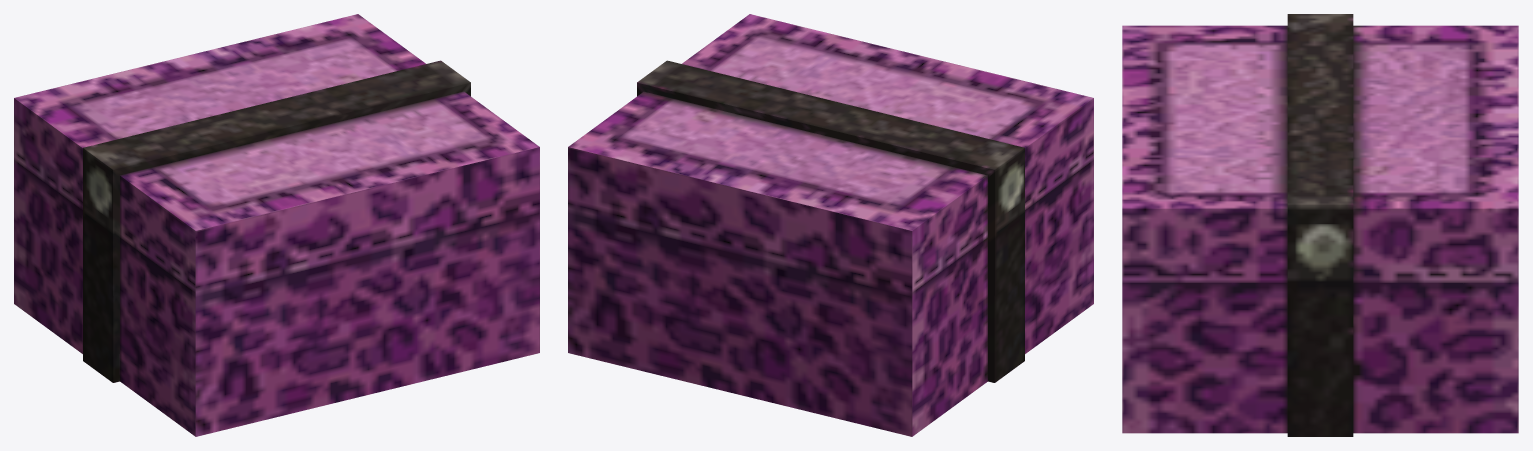
File: furni_0200100_02.FBX
3 renders of one model, left to right at view 1: azimuth 30°, elevation 25°; view 2: azimuth 150°, elevation 25°; view 3: azimuth 270°, elevation 25°, orthographic. The views are drawn at different scales.
Parts seen in each view (by area): view 1: furni_0200100_02; view 2: furni_0200100_02; view 3: furni_0200100_02.
Part boxes in pixels (bbox=[...]): furni_0200100_02: bbox=[14, 14, 539, 436]; furni_0200100_02: bbox=[568, 14, 1093, 436]; furni_0200100_02: bbox=[1122, 14, 1518, 436].
Bounding box in the file's own units: 83.54 × 47.54 × 73.47.
Materials: 1 (1 with a texture image).
